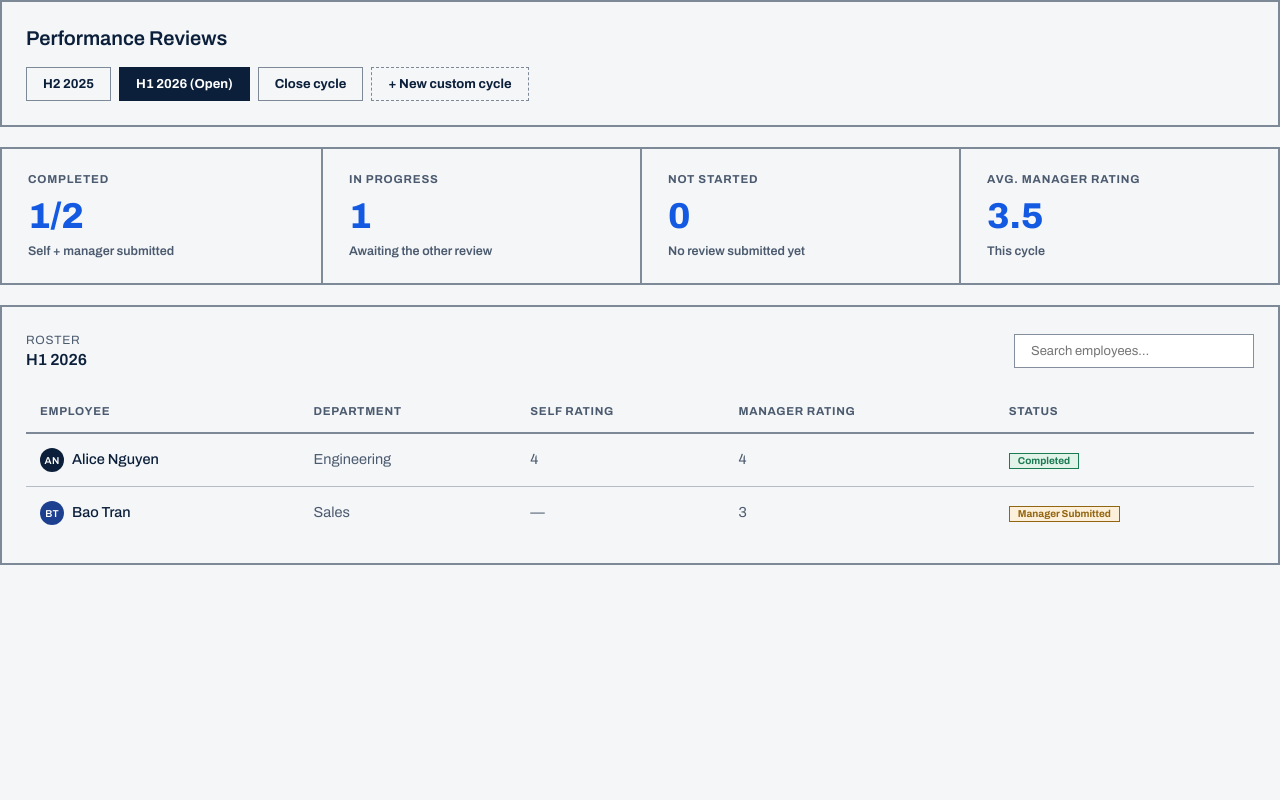
Scenario: Performance › shows the cycle-status and new-cycle buttons for an admin, and toggles cycle status
This screenshot has width=1280, height=800.
Check: the text "Alice Nguyen" is shown, box [72, 449, 159, 471]
Check: the button "+ New custom cycle" is shown, box [371, 67, 528, 101]
What coordinates should you click on to do the following:
click the button "Close cycle"
I would click on:
 (310, 84)
Its box is [258, 67, 363, 101].
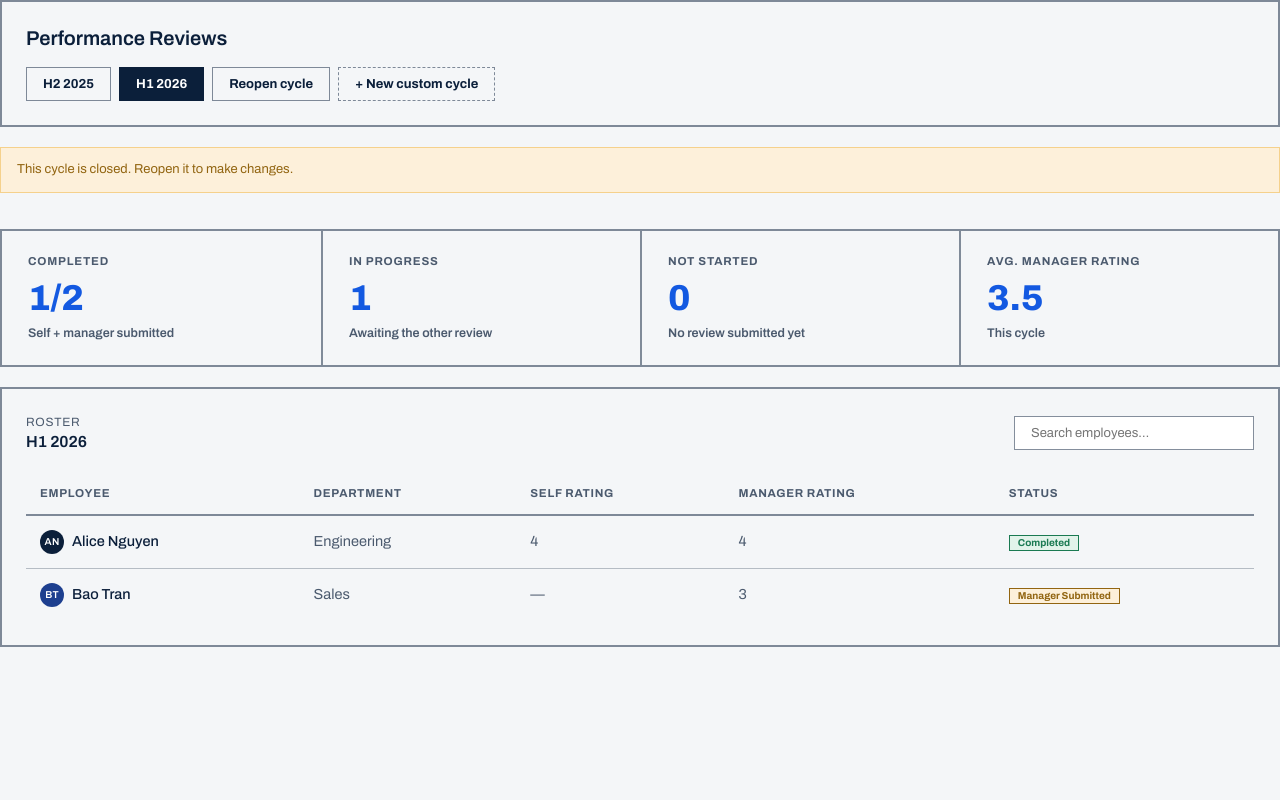
Check: the button "Reopen cycle" is shown, box [212, 67, 330, 101]
Check: the text "This cycle is closed. Reopen it to make changes." is shown, box [0, 147, 1279, 192]
